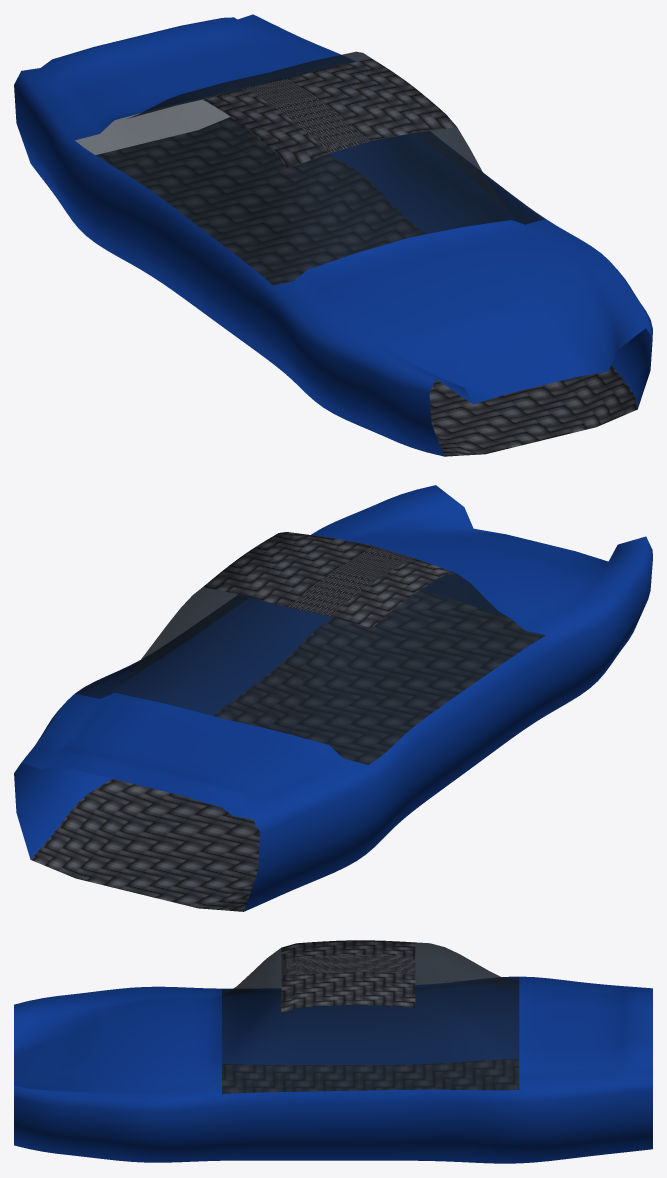
File: bmw_m4_competition.obj
3 views of the same model, one above another, from view 1: azimuth 30°, elevation 25°; view 2: azimuth 150°, elevation 25°; view 3: azimuth 270°, elevation 25° (orthographic). The views are drawn at different scales.
Parts seen in each view (by area): view 1: BodyPaintShell, CarbonAeroAndRoof, GreenhouseWindows; view 2: BodyPaintShell, CarbonAeroAndRoof, GreenhouseWindows; view 3: BodyPaintShell, GreenhouseWindows, CarbonAeroAndRoof.
Boxes of the visible parts, x1,y1,x2,y2 form: BodyPaintShell: [14, 14, 652, 456]; CarbonAeroAndRoof: [96, 58, 637, 456]; GreenhouseWindows: [75, 51, 545, 285]; BodyPaintShell: [14, 485, 652, 911]; CarbonAeroAndRoof: [30, 532, 544, 911]; GreenhouseWindows: [75, 573, 545, 764]; BodyPaintShell: [14, 976, 652, 1163]; GreenhouseWindows: [222, 942, 519, 1093]; CarbonAeroAndRoof: [222, 940, 518, 1093].
Bounding box in the file's own units: 2.14 × 1.22 × 4.79.
Materials: 3 (1 with a texture image).
